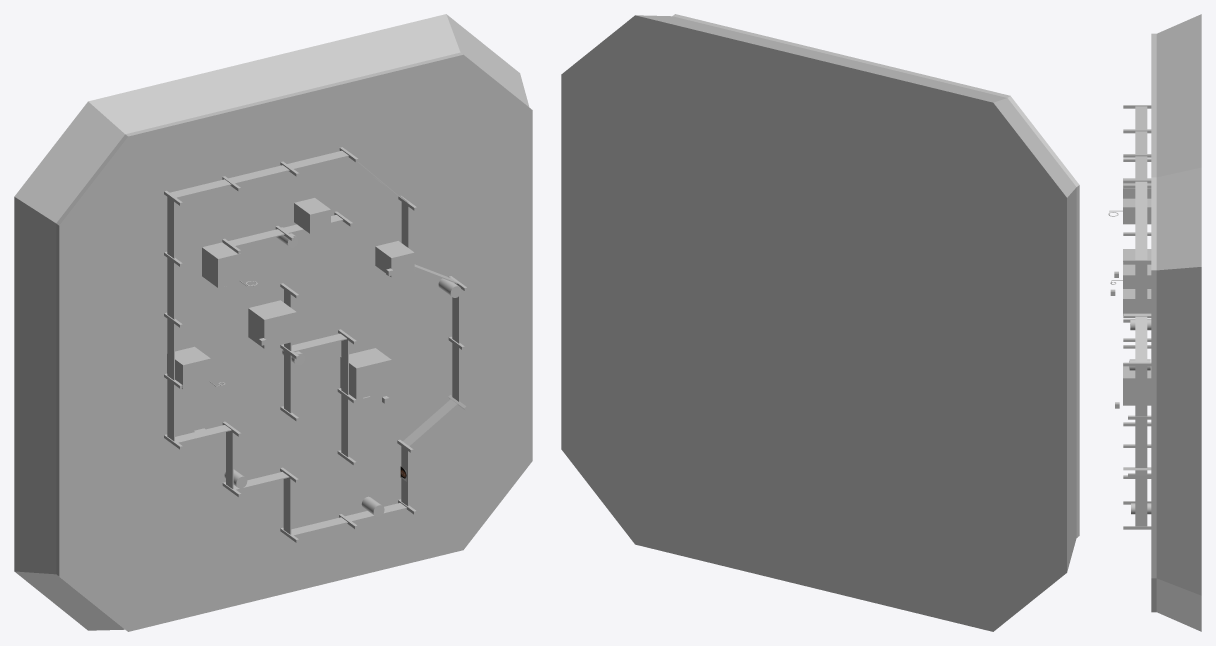
Rendered from map.obj.
The picture shows the model from 3 angles, left to right: view 1: azimuth 30°, elevation 25°; view 2: azimuth 150°, elevation 25°; view 3: azimuth 270°, elevation 25°; orthographic projection. The views are drawn at different scales.
Parts seen in each view (by area): view 1: main_ground, main_Yellow, main_objects; view 2: main_Yellow, main_ground; view 3: main_Yellow, main_objects, main_ground, main_Green.
Boxes of the visible parts, box(x1,y1,x2,y2) form: main_ground: box(56, 52, 532, 631); main_Yellow: box(14, 14, 529, 630); main_objects: box(164, 147, 467, 542); main_Yellow: box(561, 15, 1076, 631); main_ground: box(672, 14, 1079, 537); main_Yellow: box(1114, 14, 1201, 631); main_objects: box(1109, 105, 1151, 529); main_ground: box(1151, 33, 1156, 612); main_Green: box(1110, 282, 1151, 330).
Size of the model in its own units: 10.95 by 10.95 by 2.
